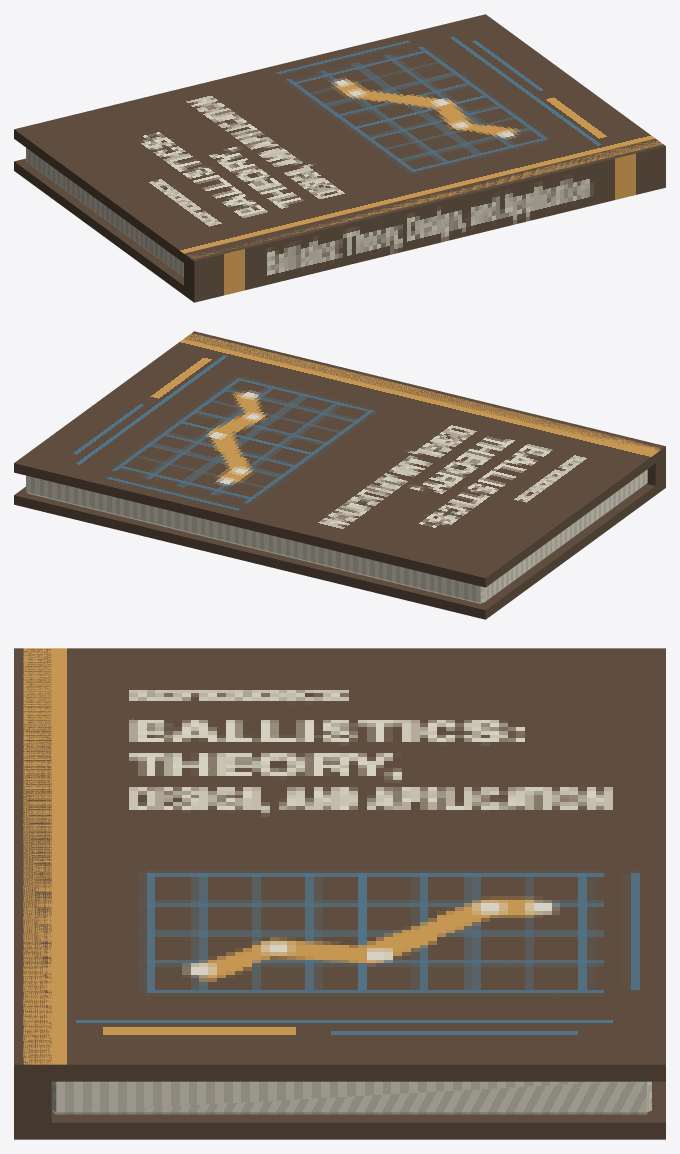
The model's file is text_gunsmith.glb.
3 views of the same model, one above another, from view 1: azimuth 30°, elevation 25°; view 2: azimuth 150°, elevation 25°; view 3: azimuth 270°, elevation 25° (orthographic). The views are drawn at different scales.
Visible parts, largest first — view 1: block_front, block_spine, block_back, block_pages; view 2: block_front, block_pages, block_back, block_spine; view 3: block_front, block_pages, block_back, block_spine.
Part boxes in pixels (left/top/right/bottom): block_front: left=14, top=14, right=662, bottom=268; block_spine: left=184, top=138, right=665, bottom=302; block_back: left=14, top=158, right=191, bottom=300; block_pages: left=26, top=148, right=183, bottom=276; block_front: left=14, top=333, right=663, bottom=587; block_pages: left=26, top=469, right=647, bottom=604; block_back: left=14, top=480, right=663, bottom=619; block_spine: left=185, top=331, right=665, bottom=489; block_front: left=23, top=648, right=665, bottom=1081; block_pages: left=51, top=1081, right=651, bottom=1114; block_back: left=23, top=1081, right=665, bottom=1139; block_spine: left=14, top=648, right=51, bottom=1139.
Bounding box in the file's own units: 0.25 × 0.021 × 0.1655.
Materials: 1 (1 with a texture image).
